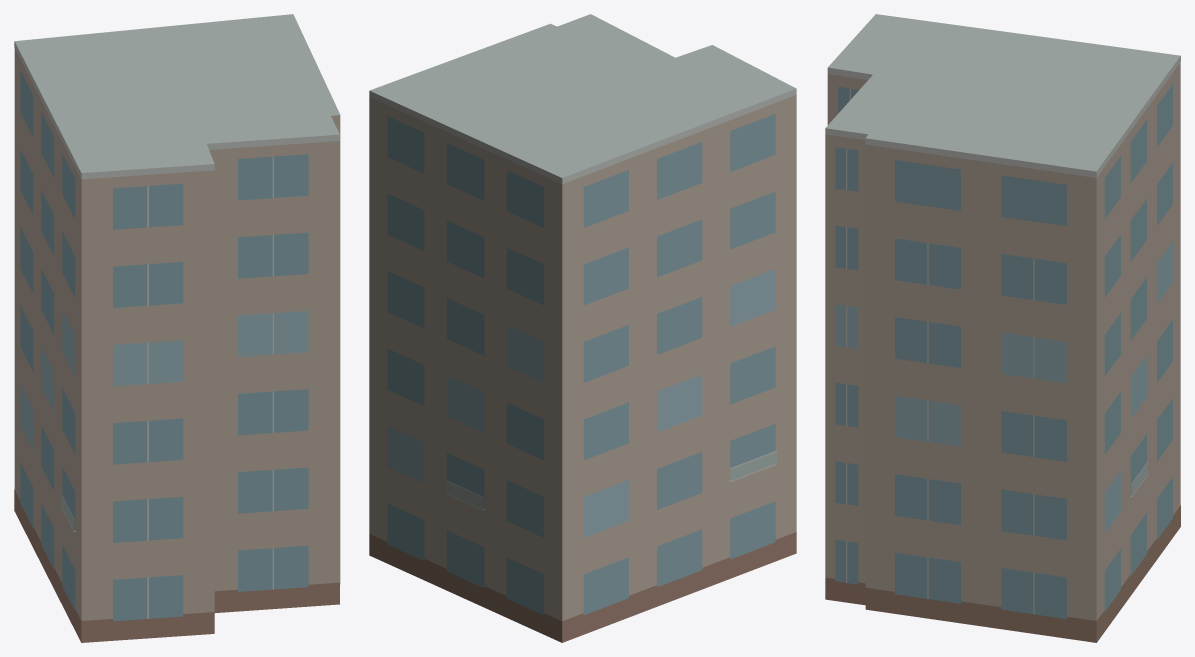
Rendered from survey-upis-33024002.glb.
The picture shows the model from 3 angles, left to right: view 1: azimuth 30°, elevation 25°; view 2: azimuth 150°, elevation 25°; view 3: azimuth 270°, elevation 25°; orthographic projection.
Parts seen in each view (by area): view 1: survey-upis-33024002.tmp; view 2: survey-upis-33024002.tmp; view 3: survey-upis-33024002.tmp.
Part boxes in pixels (x1=…): survey-upis-33024002.tmp: x1=14, y1=14, x2=340, y2=642; survey-upis-33024002.tmp: x1=369, y1=14, x2=796, y2=642; survey-upis-33024002.tmp: x1=825, y1=14, x2=1180, y2=642.
Bounding box in the file's own units: 13.17 × 18.35 × 12.55.
